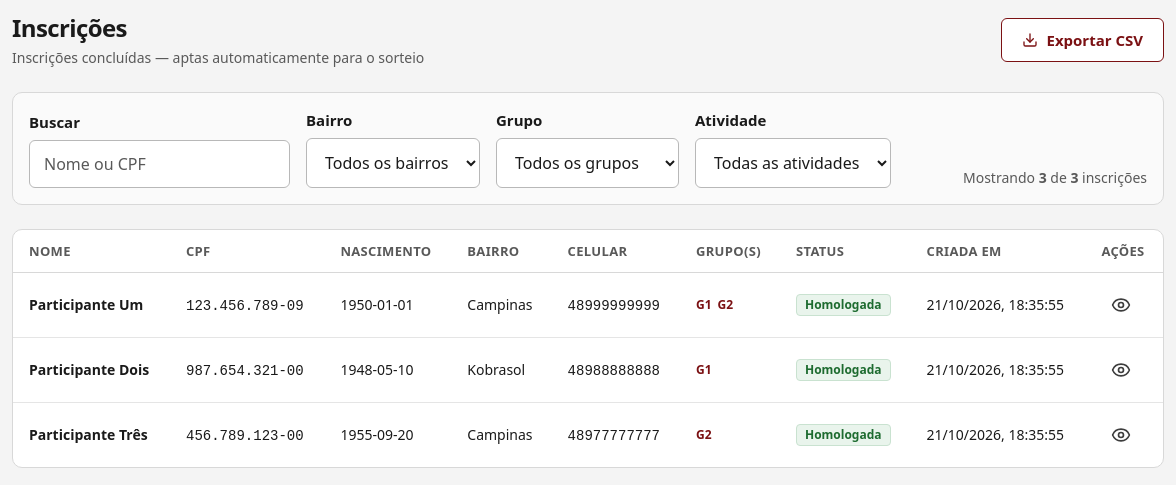
Scenario: RegistrationsPage — filtros › combina filtros e limpa com o botão Limpar filtros
Expected: the text "Participante Um" is shown, [29,295,154,315]
Select "Campinas" in the dropdown labelled "Bairro" at (393, 162), box [306,138,480,188]
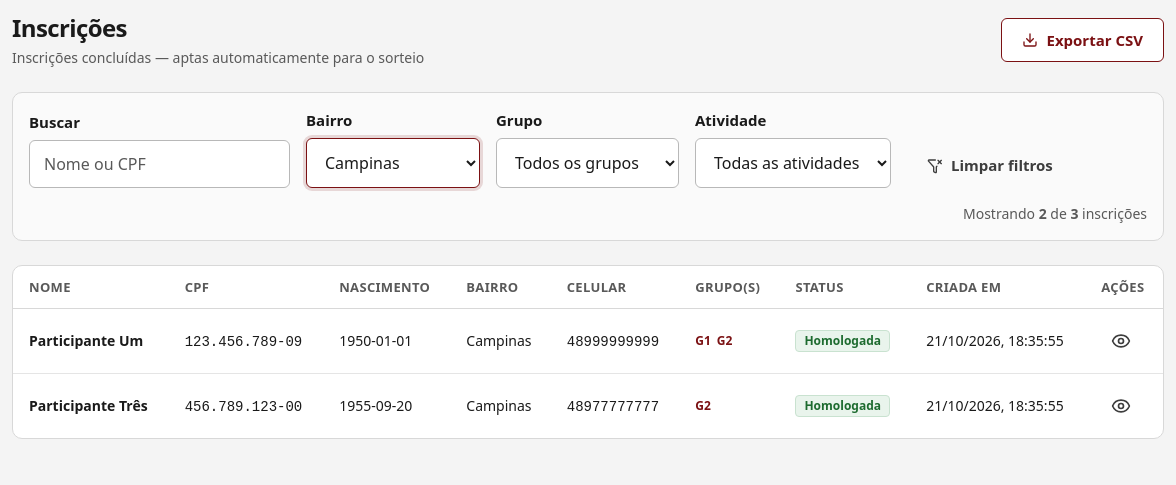
Select "Ambos os grupos" in the dropdown labelled "Grupo" at (588, 162), box [496,138,679,188]
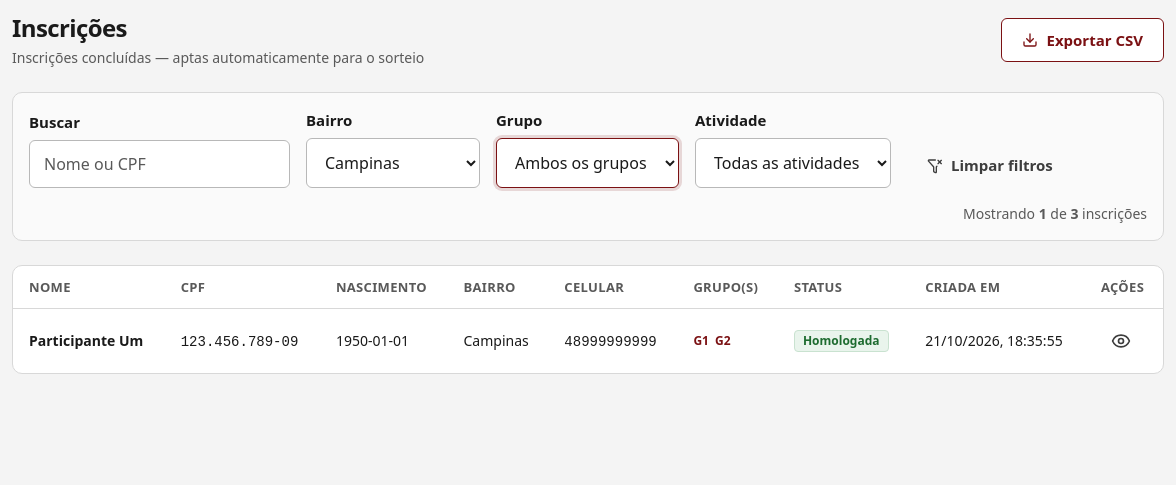
Result: the element showing "Mostrando 1 de 3 inscrições" is shown at [963,204,1147,224]
Click the button "Limpar filtros".
click(990, 166)  # box [907,144,1073,188]
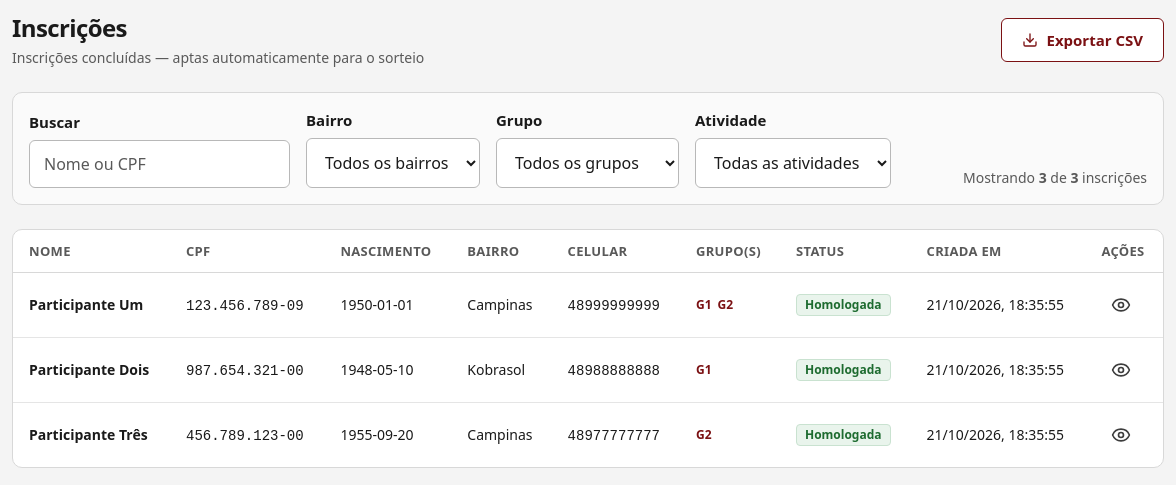
Result: the element showing "Mostrando 3 de 3 inscrições" is shown at [963,168,1147,188]
